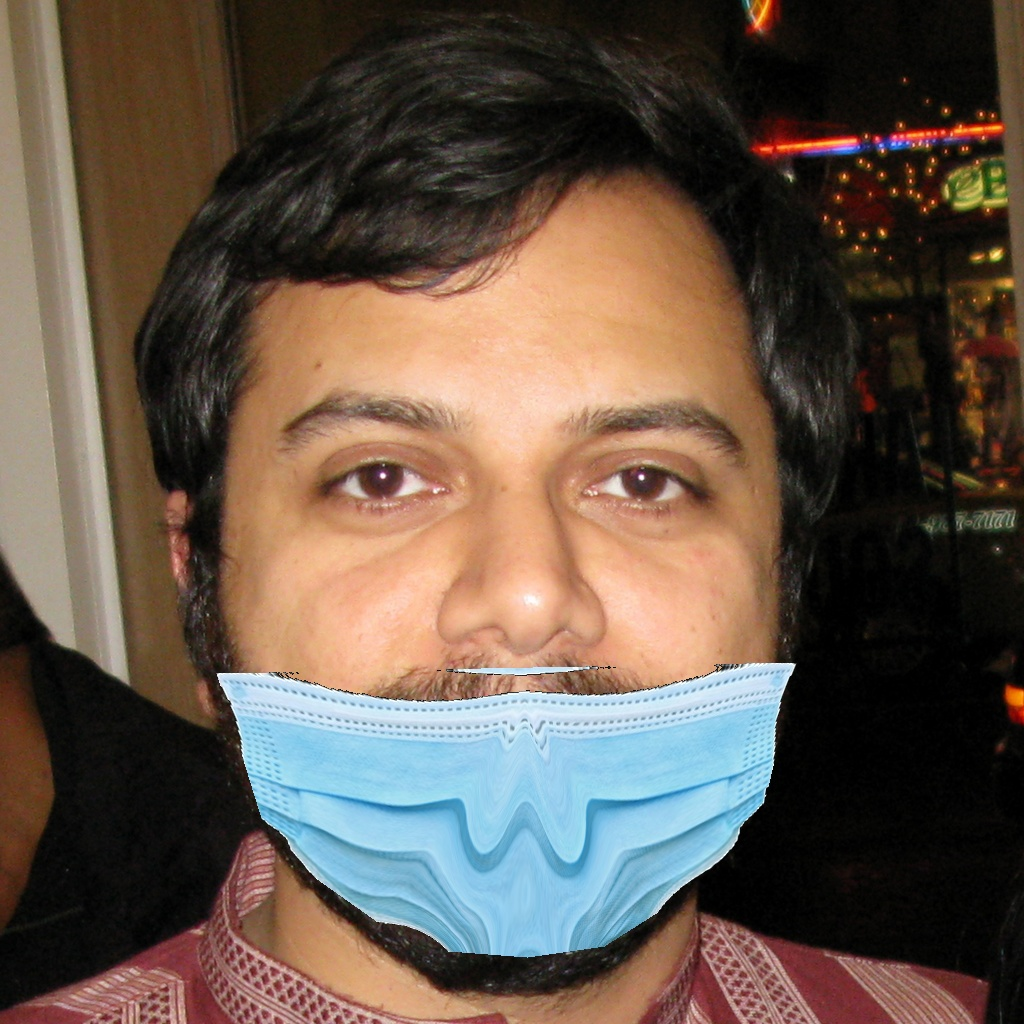mascarilla_mal_puesta: (124, 388, 842, 955)
